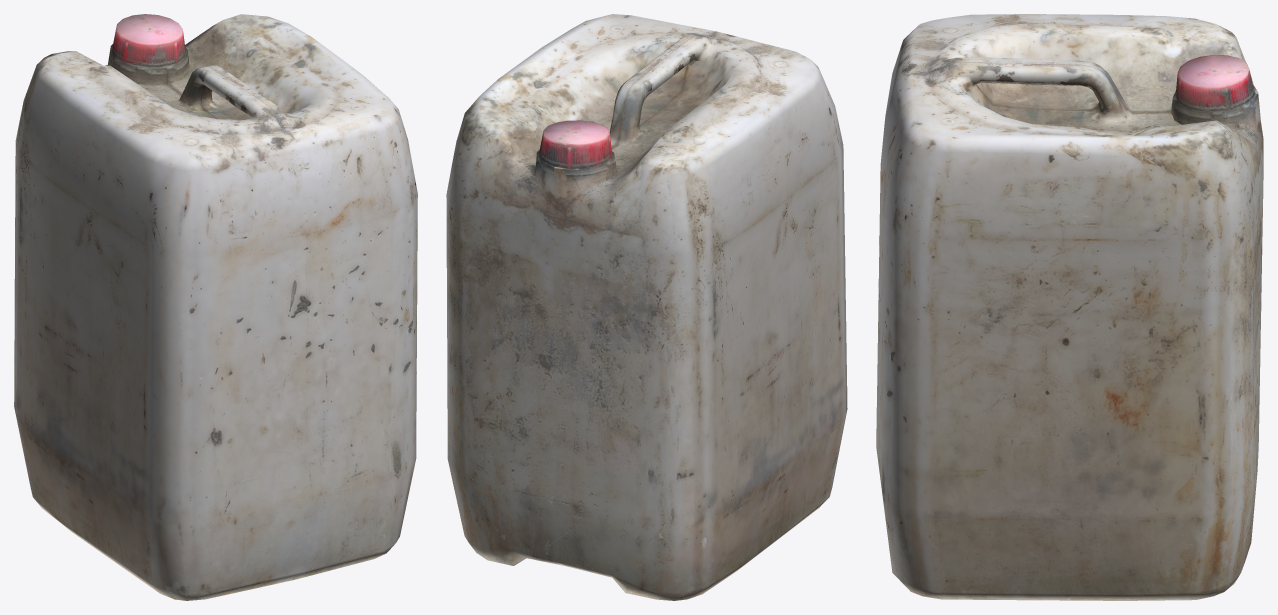
The picture shows the model from 3 angles, left to right: view 1: azimuth 30°, elevation 25°; view 2: azimuth 150°, elevation 25°; view 3: azimuth 270°, elevation 25°; orthographic projection. The views are drawn at different scales.
Visible parts, largest first — view 1: kanistra-6; view 2: kanistra-6; view 3: kanistra-6.
Part boxes in pixels (bbox=[...]): kanistra-6: bbox=[14, 14, 417, 600]; kanistra-6: bbox=[446, 14, 847, 600]; kanistra-6: bbox=[876, 14, 1263, 600].
Bounding box in the file's own units: 0.3179 × 0.4978 × 0.3632.
1 material, 1 textured.
